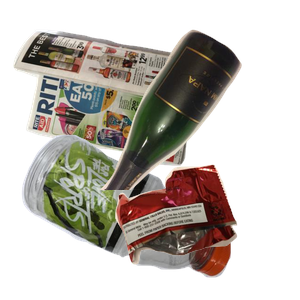glass: (87, 27, 300, 207)
paper: (11, 27, 213, 185)
plastic: (19, 132, 242, 300)
trash: (113, 162, 300, 300)
